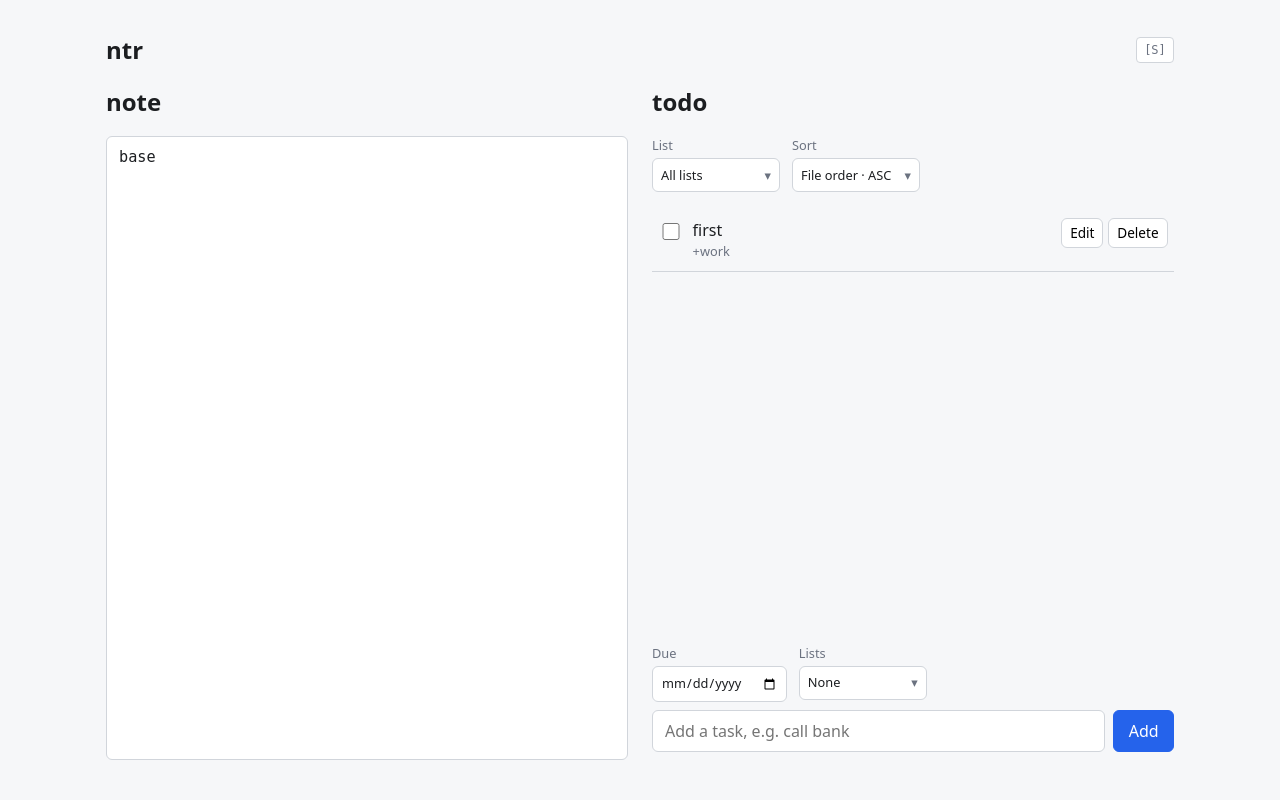
Test case: approval across real panes › runs reconciliation on an actual destination change (server)
Click the button named "settings" at (1155, 50), box [1136, 37, 1174, 63]
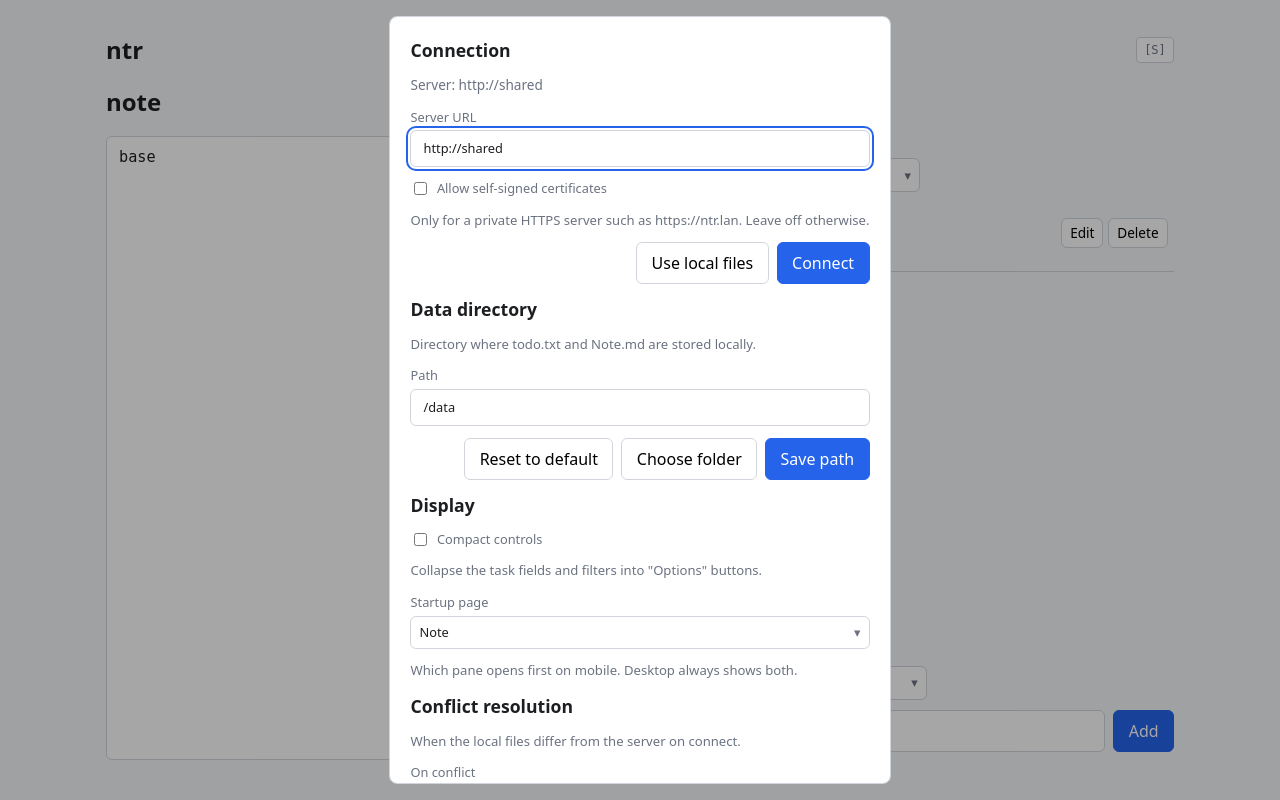
Replace the text in the field with placeholder "http://127.0.0.1:8080" with "http://other" at (640, 149), box [410, 130, 870, 167]
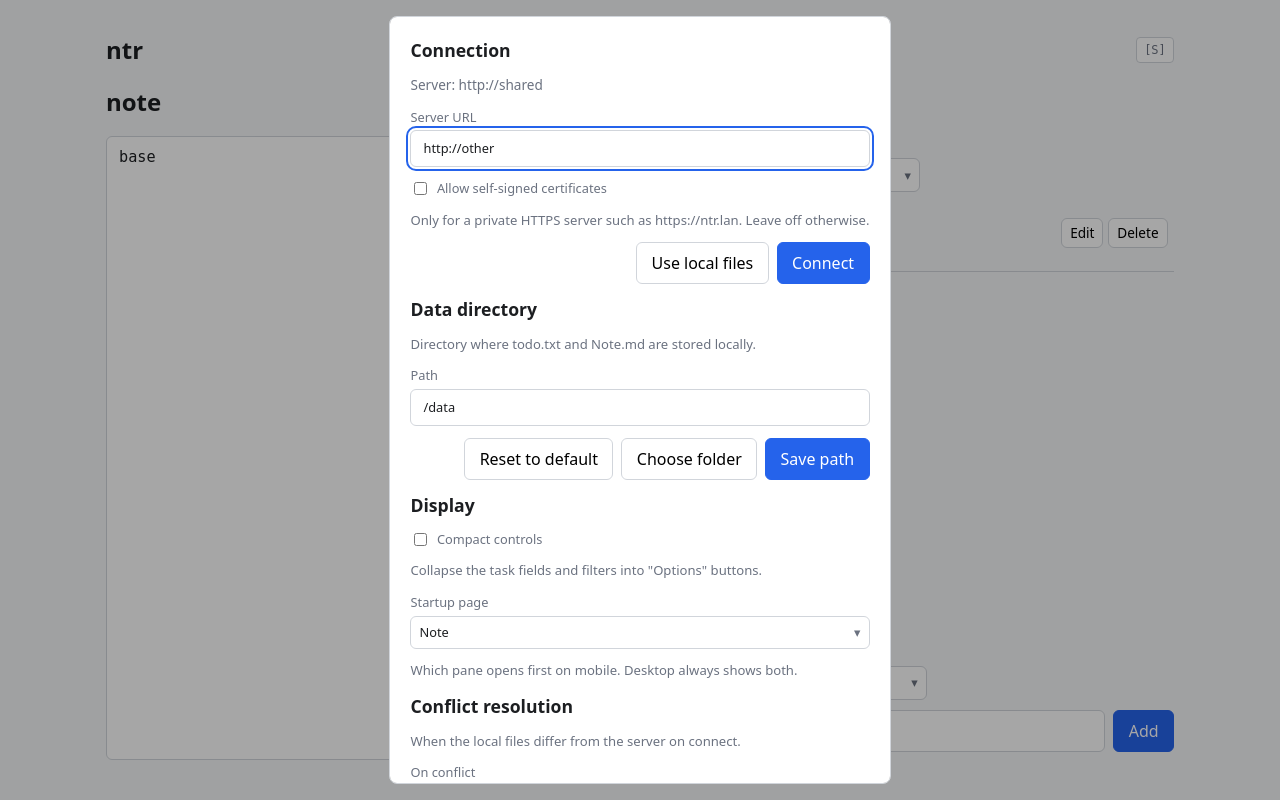
Click the button "Connect" at (823, 263), box [777, 242, 870, 284]
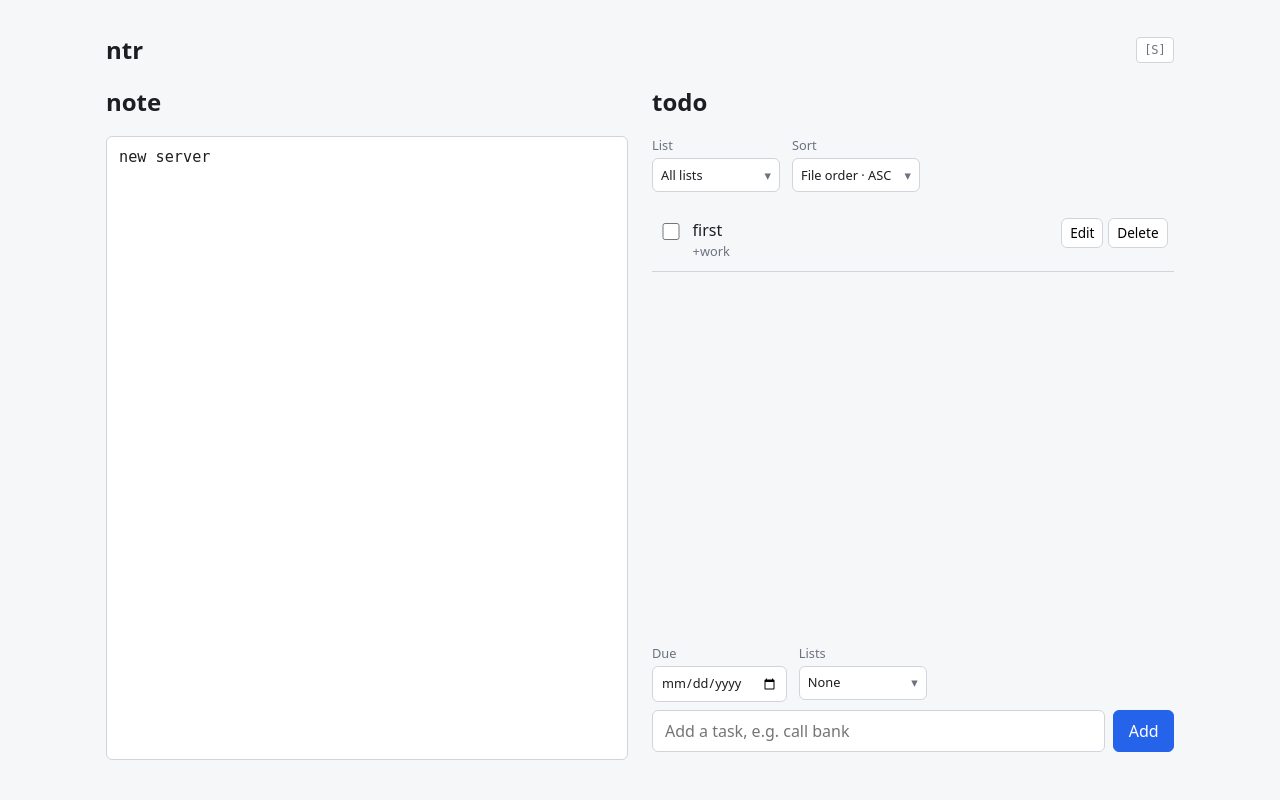
Expected: the field named "Note (Markdown)" reads "new server", [106, 136, 628, 760]
